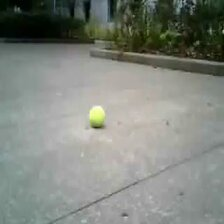tennis: (89, 107, 105, 127)
